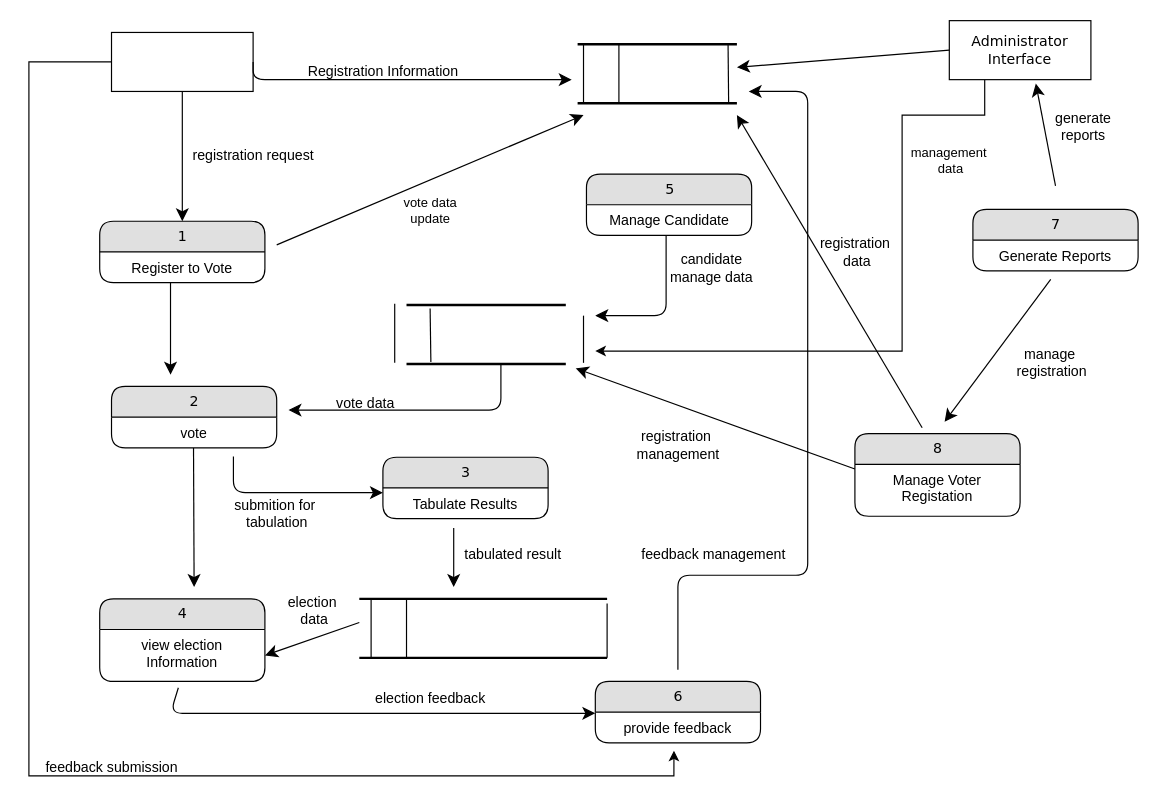
Image size: 1159x806. Some labels were removed from this diagram. Here are the shapes that lost their labels. From the top down, the centre of each, then its label:
At (x=181, y=61): "Voter Interface".
At (x=657, y=73): "D1 voter database".
At (x=485, y=334): "D2 Candidate Database".
At (x=483, y=627): "D3 Election Result Database".
